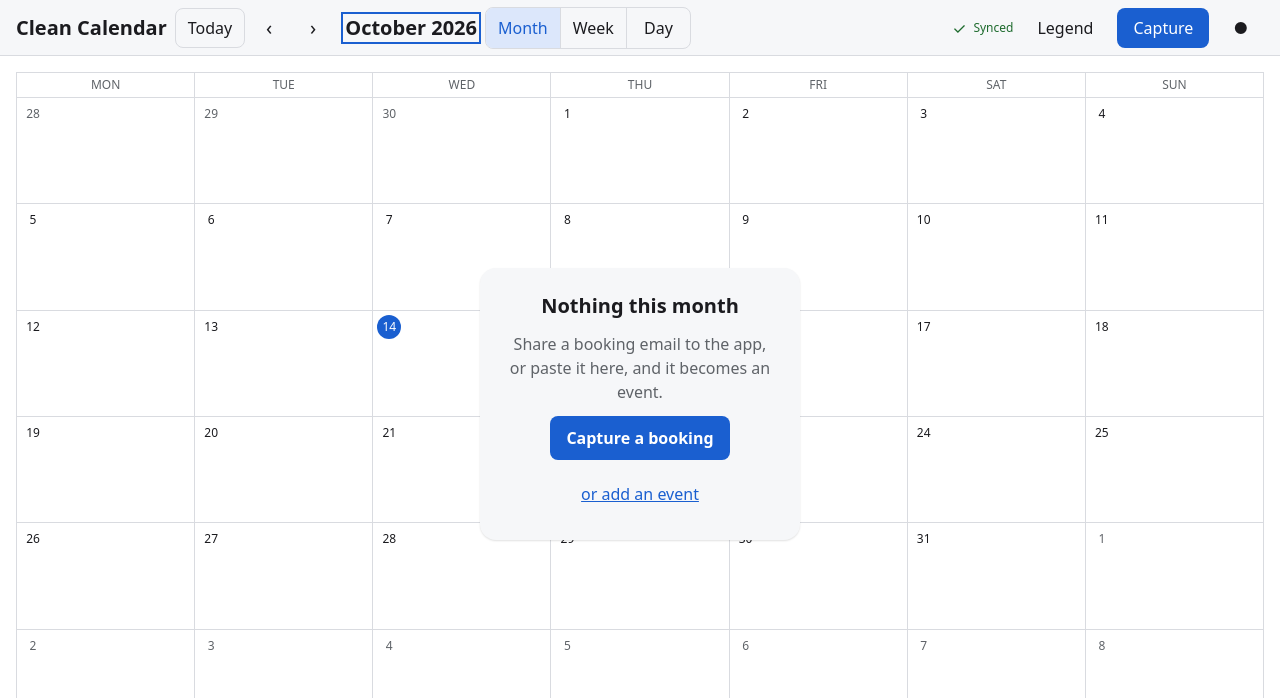
app shell top bar (AC-3) › closes the Account menu and navigates when an item is chosen
Expected: the heading "October 2026" is shown, [345,16,477,40]
Click the button named "Account": {"x": 1241, "y": 28} [1217,8,1264,48]
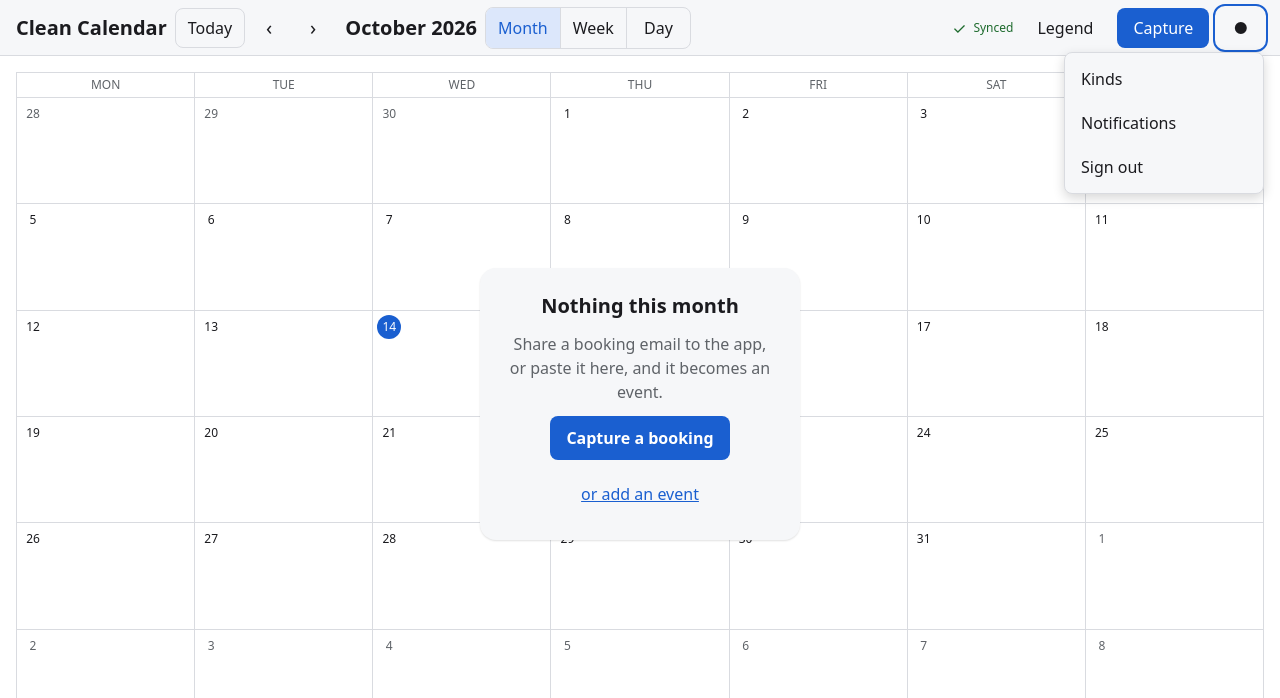
Click the menu item "Kinds": {"x": 1102, "y": 78} [1081,68,1122,90]
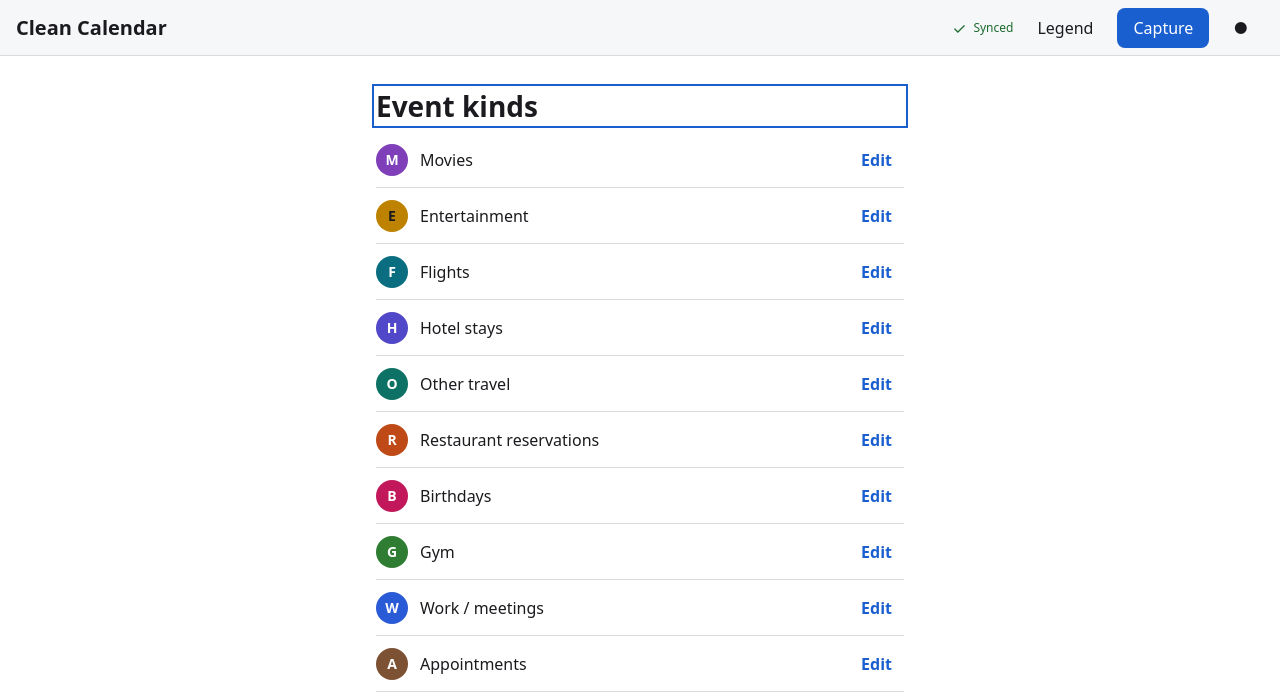
Expected: the heading "Event kinds" is shown, [376,87,538,125]
Expected: the menu is gone
